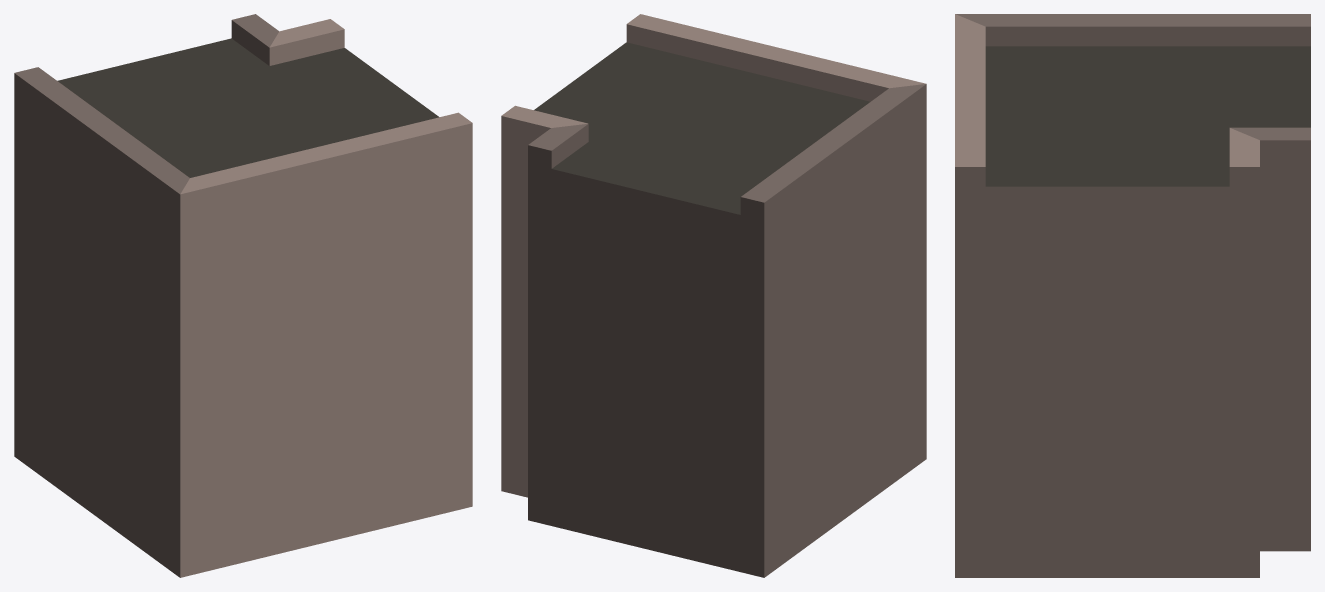
File: Building_03_Corner.fbx
3 views of the same model, side by side, from view 1: azimuth 30°, elevation 25°; view 2: azimuth 150°, elevation 25°; view 3: azimuth 270°, elevation 25° (orthographic). The views are drawn at different scales.
Parts seen in each view (by area): view 1: Building_03_Corner; view 2: Building_03_Corner; view 3: Building_03_Corner.
Part boxes in pixels (<box>): Building_03_Corner: <box>14,14,472,577</box>; Building_03_Corner: <box>501,14,926,577</box>; Building_03_Corner: <box>955,14,1310,577</box>.
Size of the model in its own units: 88.83 by 111 by 87.28.
